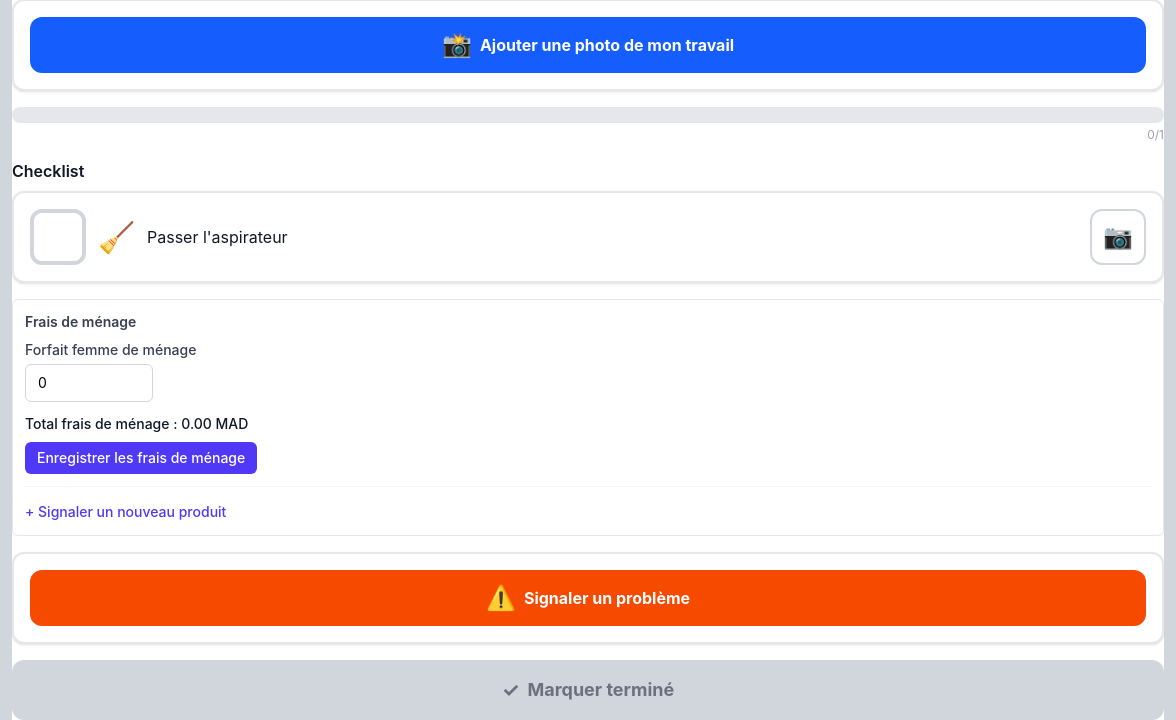
Test: MissionDetailAgent › le bouton "Signaler un problème" ouvre le formulaire de signalement
(page scrolled)
Click the button "⚠️ Signaler un problème" at (588, 598), box [30,570,1146,626]
(page scrolled)
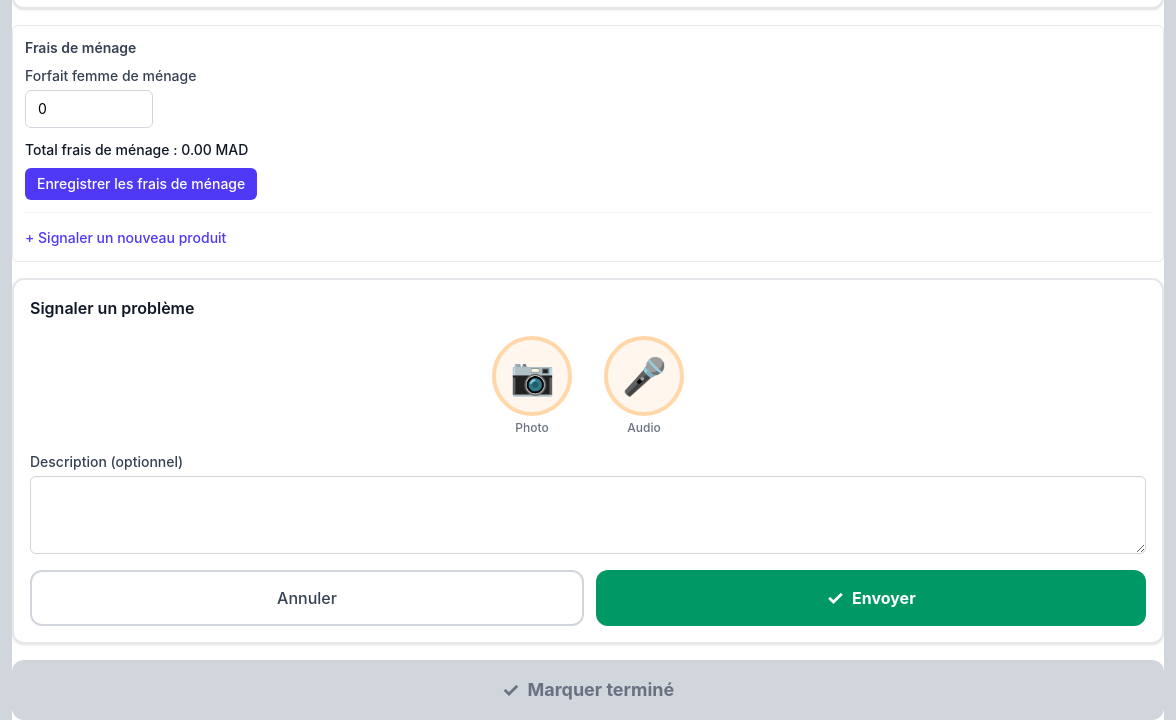
Expected: the heading "Signaler un problème" is shown, [30,298,194,318]
Result: the text box labelled "Description (optionnel)" is shown at [30,476,1146,554]
